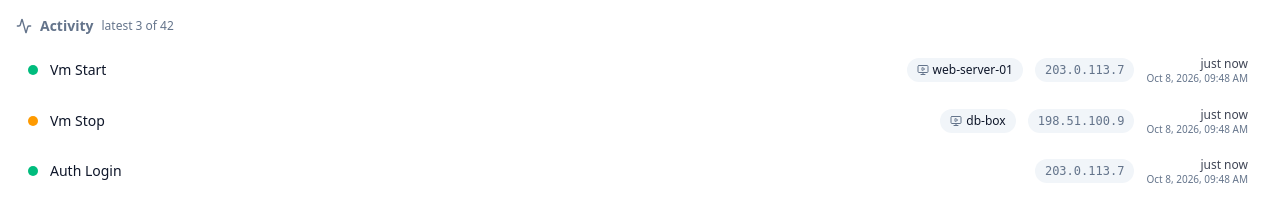
Test: KioskActivityList › filters by IP on tap and clears again
This screenshot has width=1265, height=201.
Click the button named "Filter by IP 203.0.113.7" at (1085,70), box [1035, 58, 1134, 82]
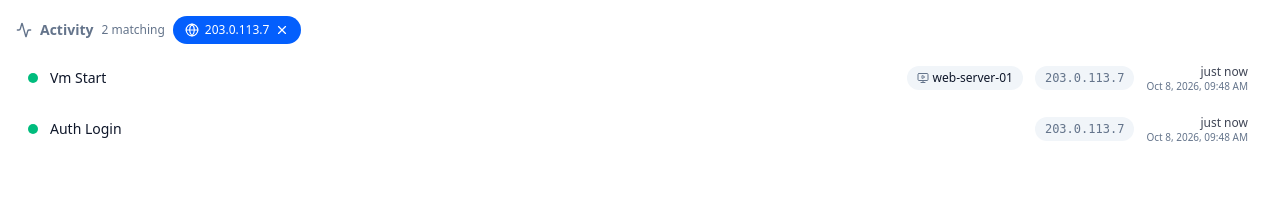
Check: the text "web-server-01" is shown, box [907, 66, 1023, 90]
Check: the text "db-box" is gone
Check: the text "2 matching" is shown, box [102, 22, 165, 38]
Note: The header chip clears the filter.
Click the button named "Clear filter" at (237,30), box [173, 16, 301, 44]
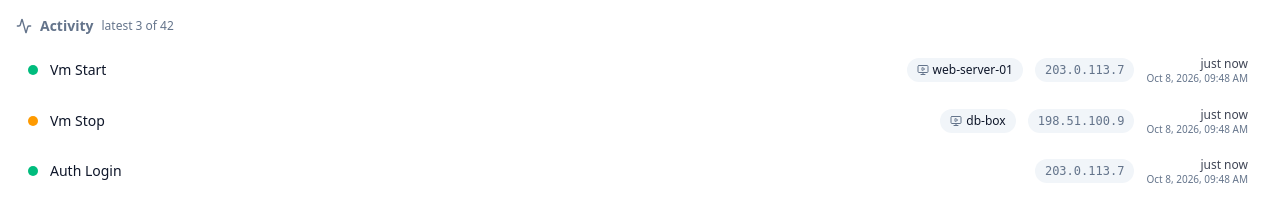
Check: the text "db-box" is shown, box [940, 109, 1016, 133]
